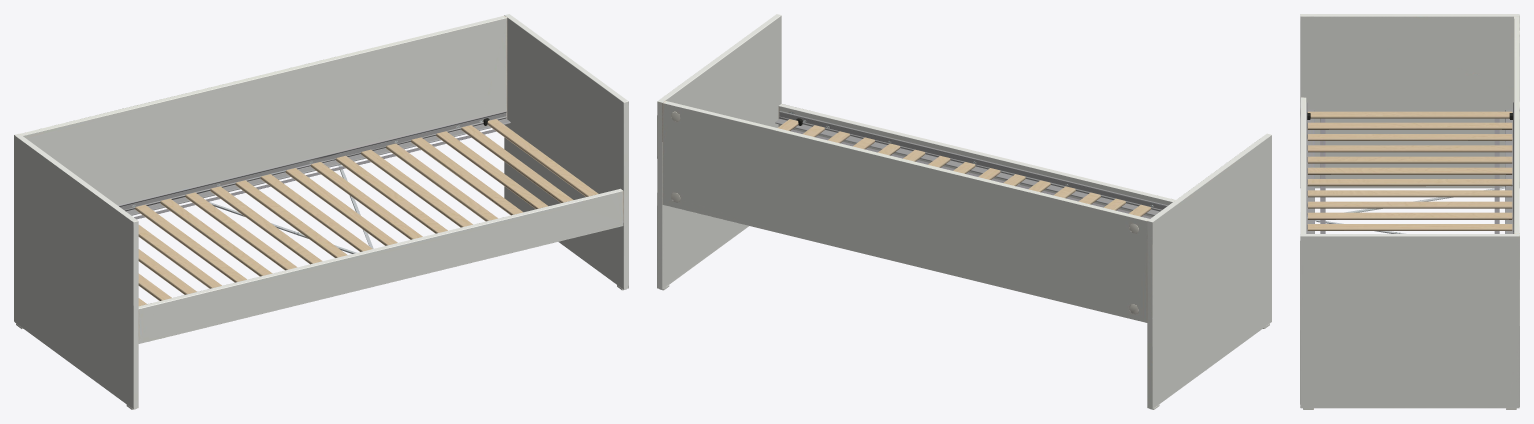
File: vihals_rama_lezanki_00595086.glb
The picture shows the model from 3 angles, left to right: view 1: azimuth 30°, elevation 25°; view 2: azimuth 150°, elevation 25°; view 3: azimuth 270°, elevation 25°; orthographic projection. The views are drawn at different scales.
Parts seen in each view (by area): view 1: vihals_rama_lezanki_00595086; view 2: vihals_rama_lezanki_00595086; view 3: vihals_rama_lezanki_00595086.
Boxes of the visible parts, x1,y1,x2,y2 form: vihals_rama_lezanki_00595086: (14, 14, 628, 409); vihals_rama_lezanki_00595086: (657, 14, 1271, 409); vihals_rama_lezanki_00595086: (1300, 14, 1519, 409).
Bounding box in the file's own units: 2.05 × 0.7505 × 0.8587.
Materials: 1 (1 with a texture image).
